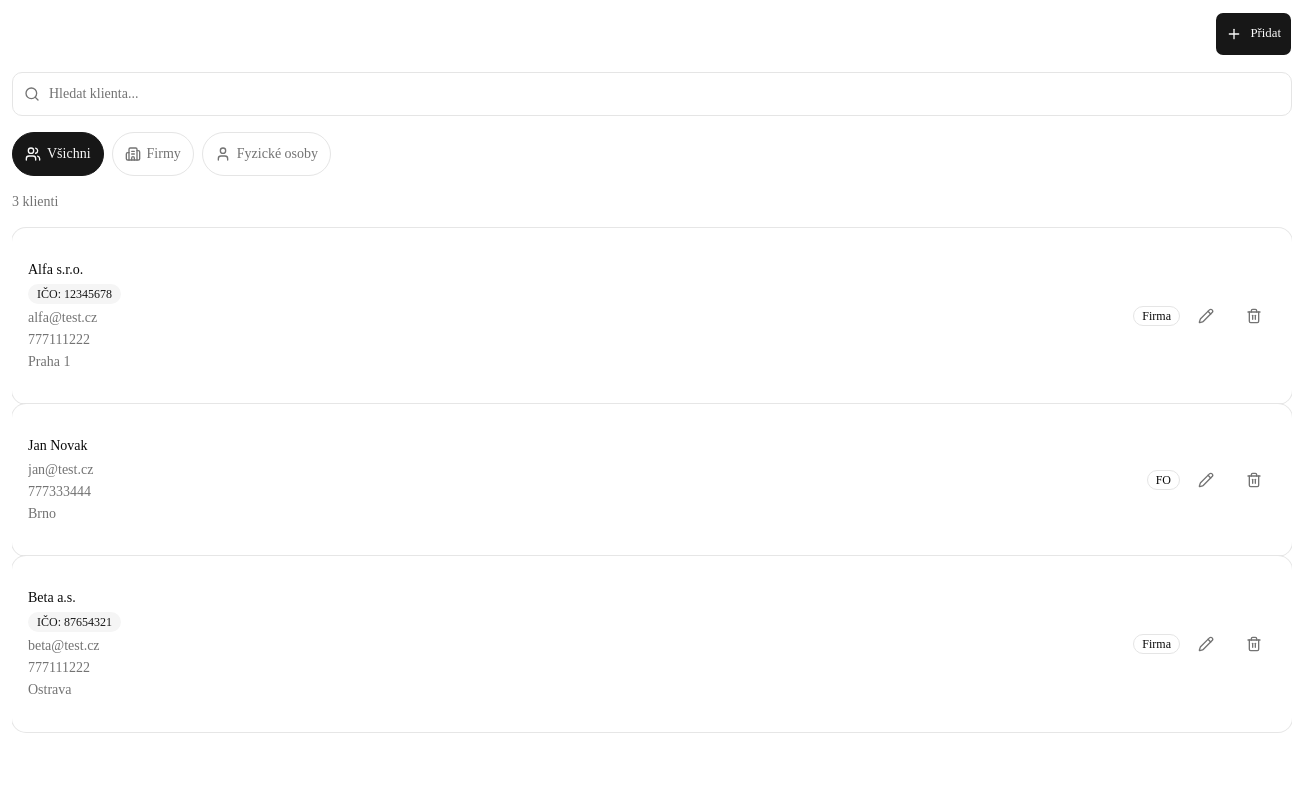
Test: KlientiList › filters by typ firma
The width and height of the screenshot is (1304, 812).
Click the button "Firmy": (153, 154) [112,132,194,176]
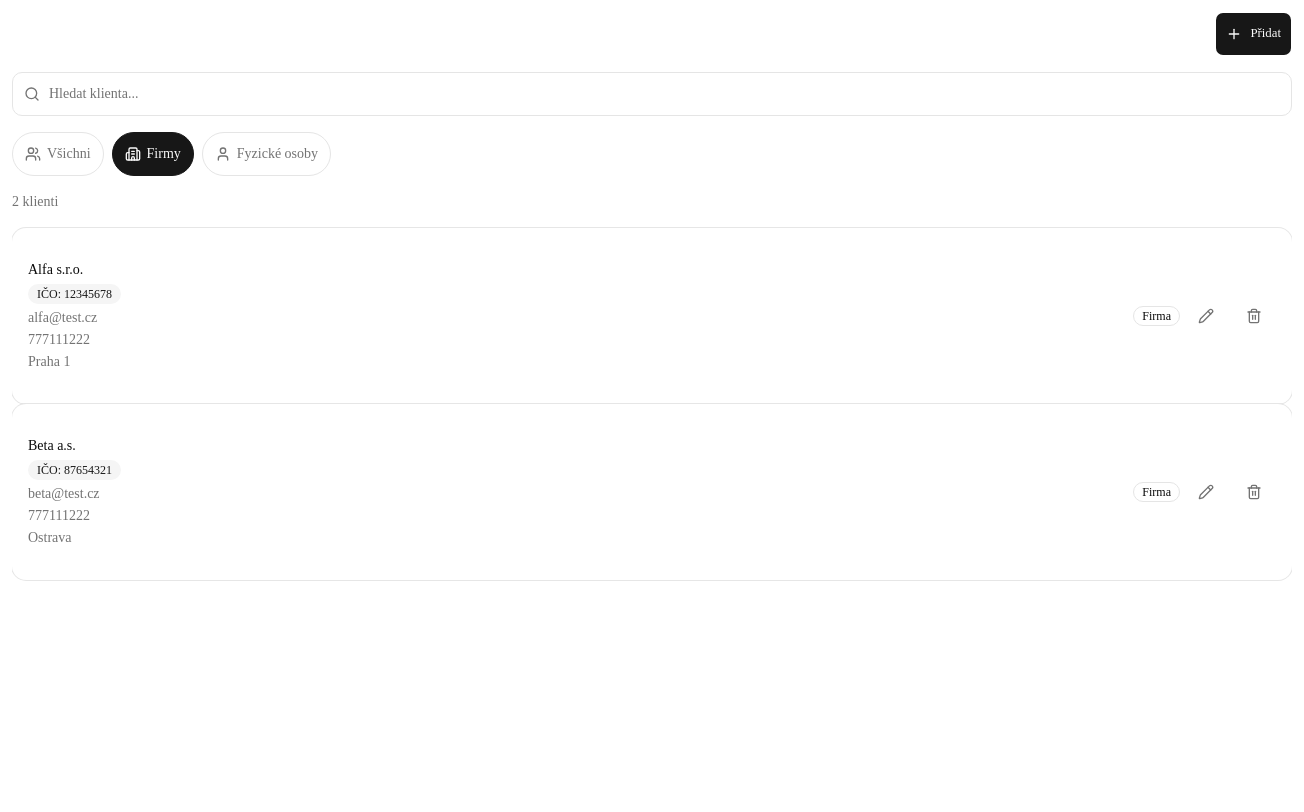
Expected: the text "Alfa s.r.o." is shown, [28,262,83,277]
Now the link "Jan Novak" is gone
